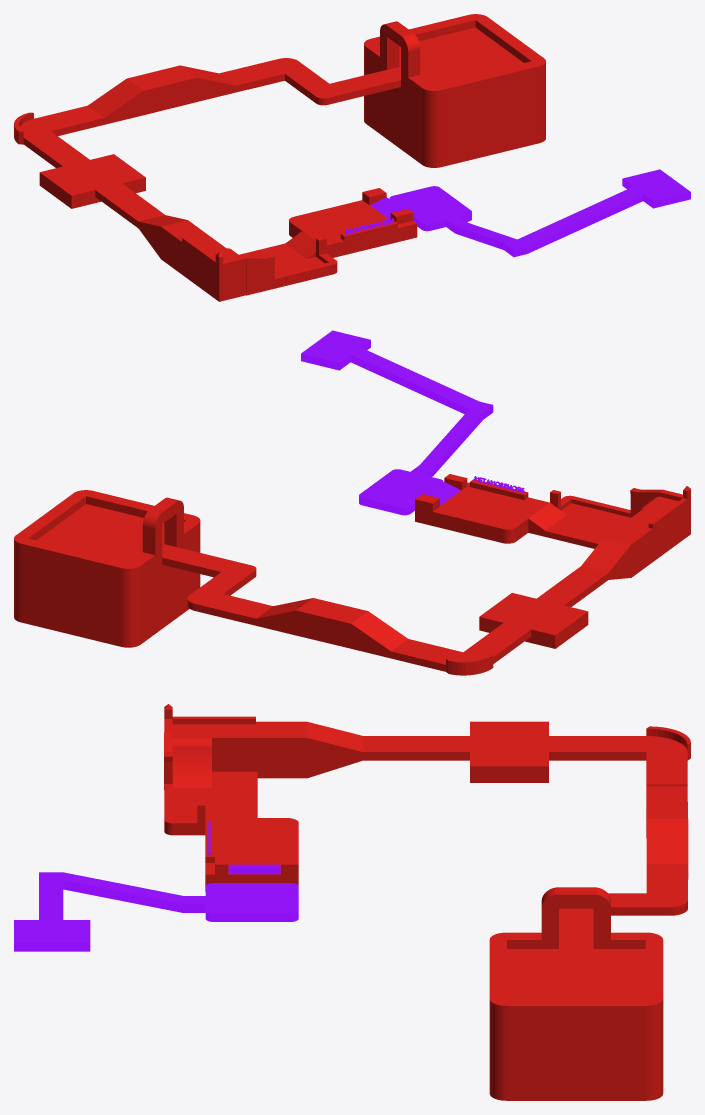
3 renders of one model, top to bottom at view 1: azimuth 30°, elevation 25°; view 2: azimuth 150°, elevation 25°; view 3: azimuth 270°, elevation 25°, orthographic. The views are drawn at different scales.
Visible parts, largest first — view 1: Cube; view 2: Cube; view 3: Cube.
Boxes of the visible parts, left/top/right/bottom form: Cube: left=14, top=14, right=690, bottom=301; Cube: left=14, top=330, right=690, bottom=675; Cube: left=14, top=704, right=690, bottom=1100.
Size of the model in its own units: 80.02 by 17.83 by 78.02.
